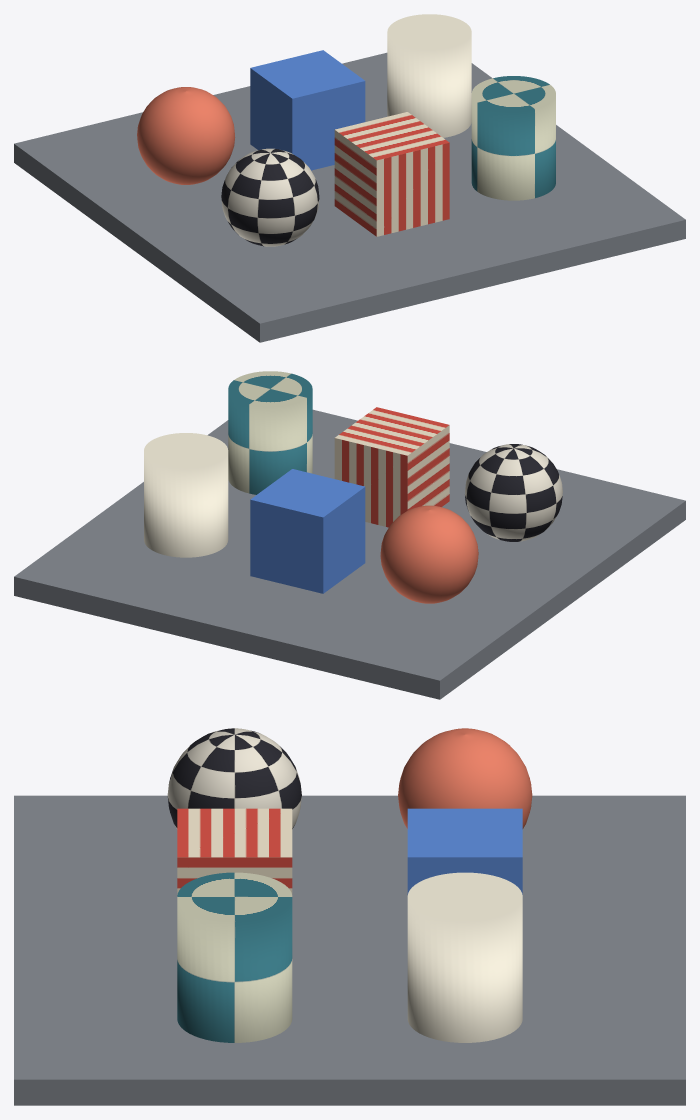
The model's file is source.gltf.
3 renders of one model, top to bottom at view 1: azimuth 30°, elevation 25°; view 2: azimuth 150°, elevation 25°; view 3: azimuth 270°, elevation 25°, orthographic. The views are drawn at different scales.
Visible parts, largest first — view 1: scene; view 2: scene; view 3: scene.
Part boxes in pixels (box(x1,y1,x2,y2)): scene: box(14, 14, 685, 342); scene: box(14, 371, 685, 699); scene: box(14, 728, 685, 1105).
Bounding box in the file's own units: 7 × 1.7 × 7.
